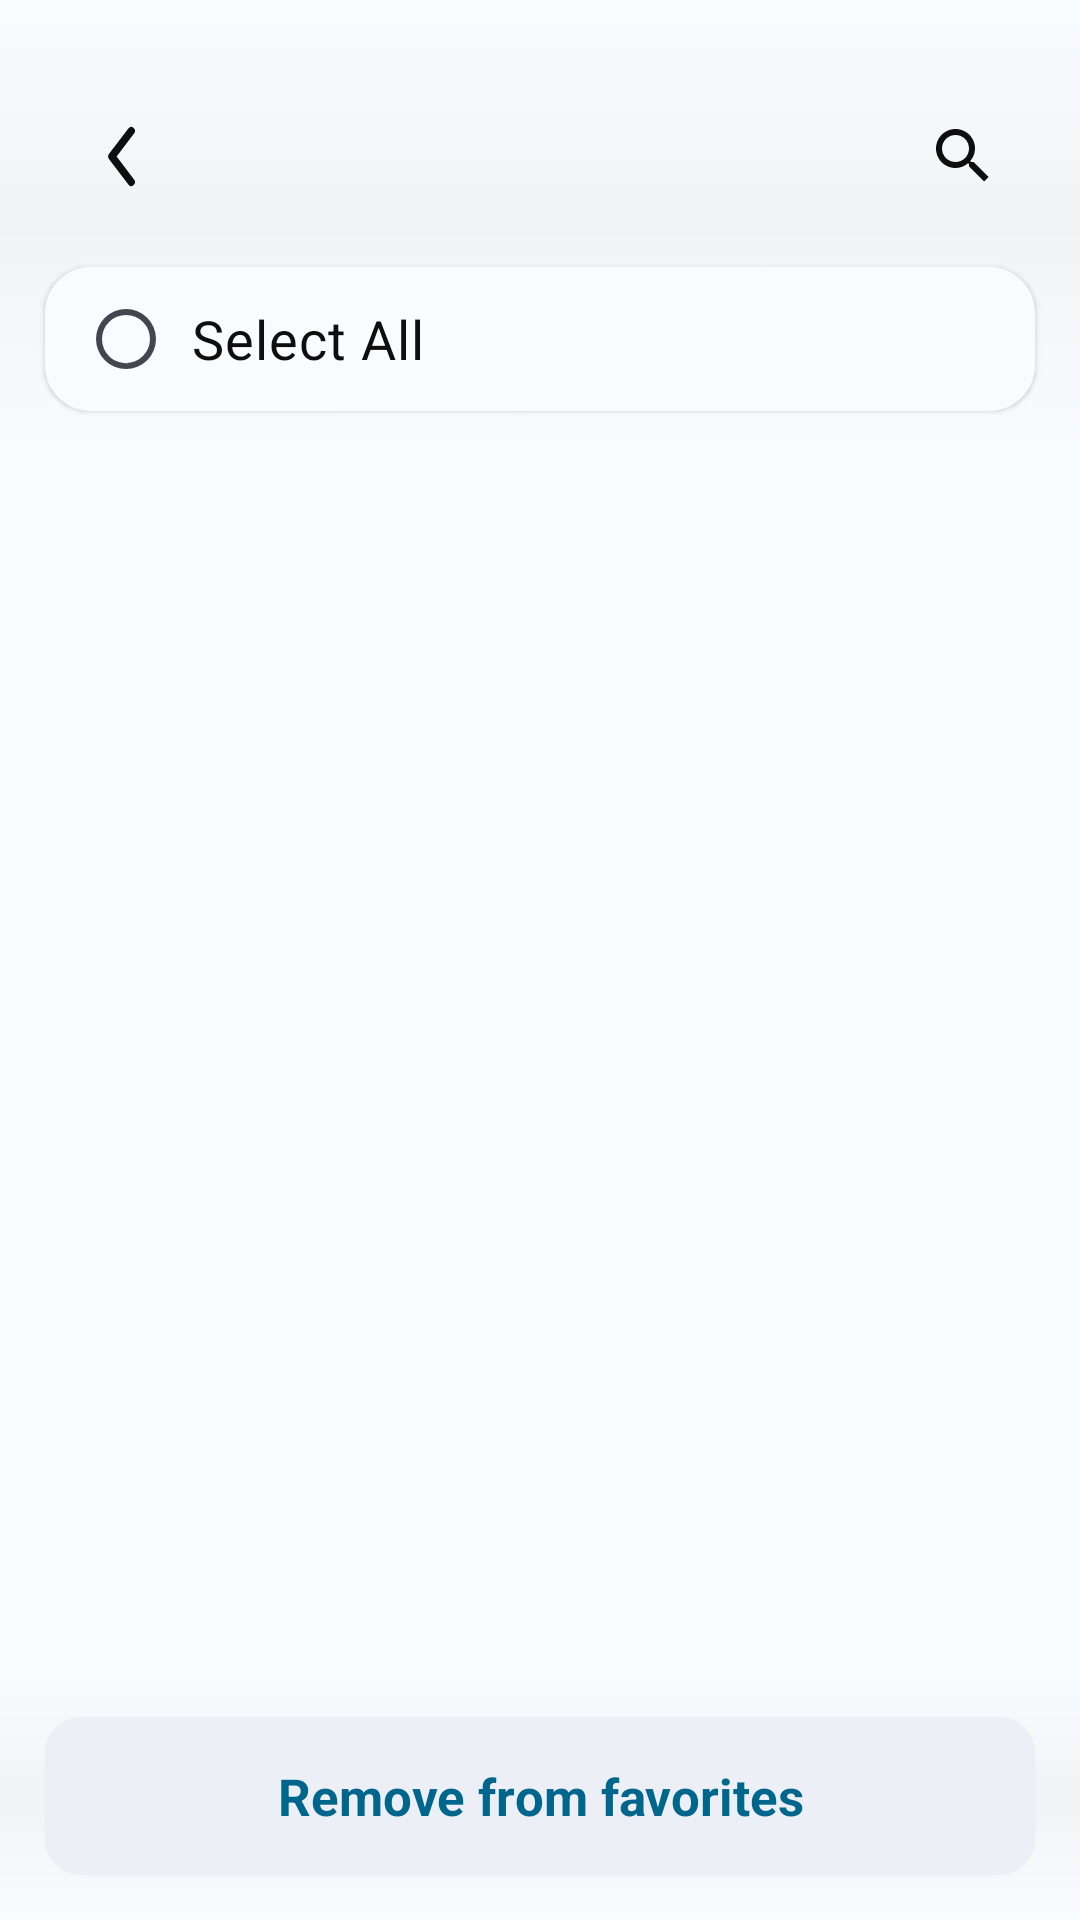

Where icons sit on this 1080 × 1920 app screen, as box=[x1, y1, x2, y2]:
Back: box=[108, 126, 135, 187]
